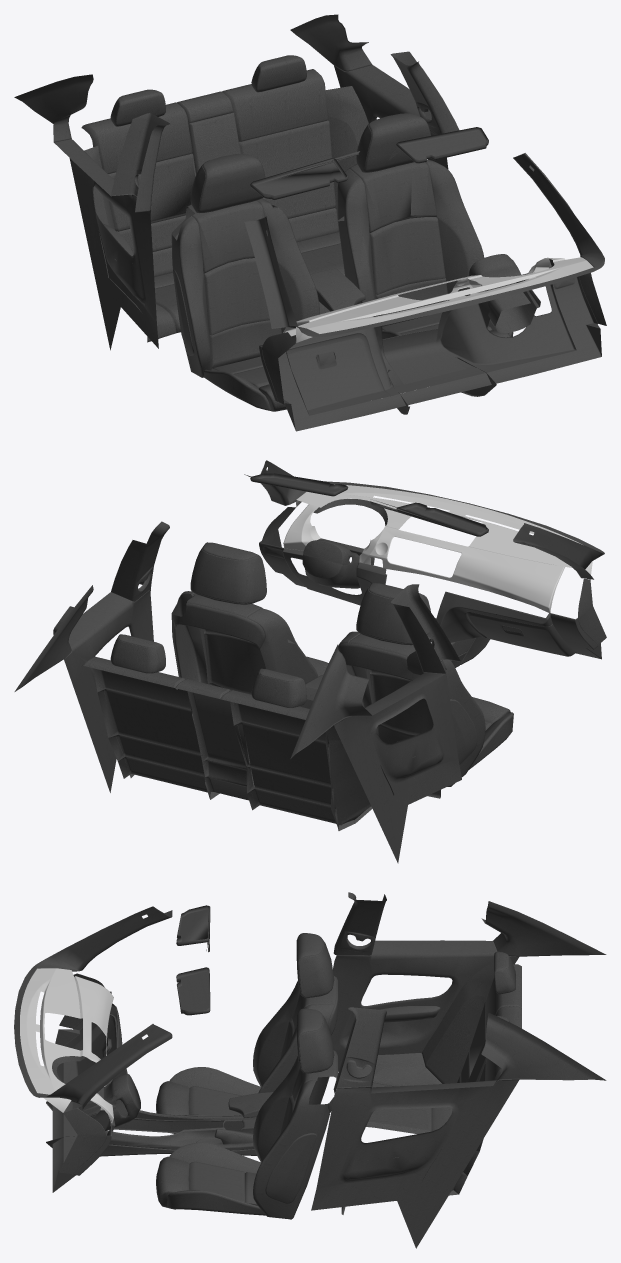
Rendered from InteriorPlastic.fbx.
3 renders of one model, top to bottom at view 1: azimuth 30°, elevation 25°; view 2: azimuth 150°, elevation 25°; view 3: azimuth 270°, elevation 25°, orthographic. The views are drawn at different scales.
Visible parts, largest first — view 1: polymsh259_SUB3, polymsh259_SUB3_TOP; view 2: polymsh259_SUB3, polymsh259_SUB3_TOP; view 3: polymsh259_SUB3, polymsh259_SUB3_TOP.
Boxes of the visible parts, x1=… form: polymsh259_SUB3: x1=14, y1=14, x2=606, y2=431; polymsh259_SUB3_TOP: x1=283, y1=257, x2=593, y2=342; polymsh259_SUB3: x1=14, y1=460, x2=606, y2=863; polymsh259_SUB3_TOP: x1=283, y1=484, x2=592, y2=613; polymsh259_SUB3: x1=14, y1=892, x2=606, y2=1248; polymsh259_SUB3_TOP: x1=20, y1=968, x2=113, y2=1123.
Bounding box in the file's own units: 1.47 × 1.05 × 2.41.
